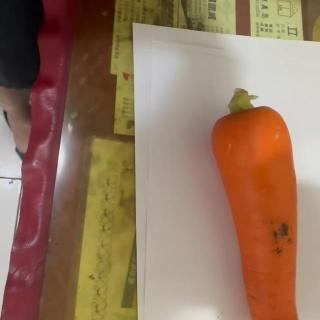carrot: (210, 87, 302, 320)
